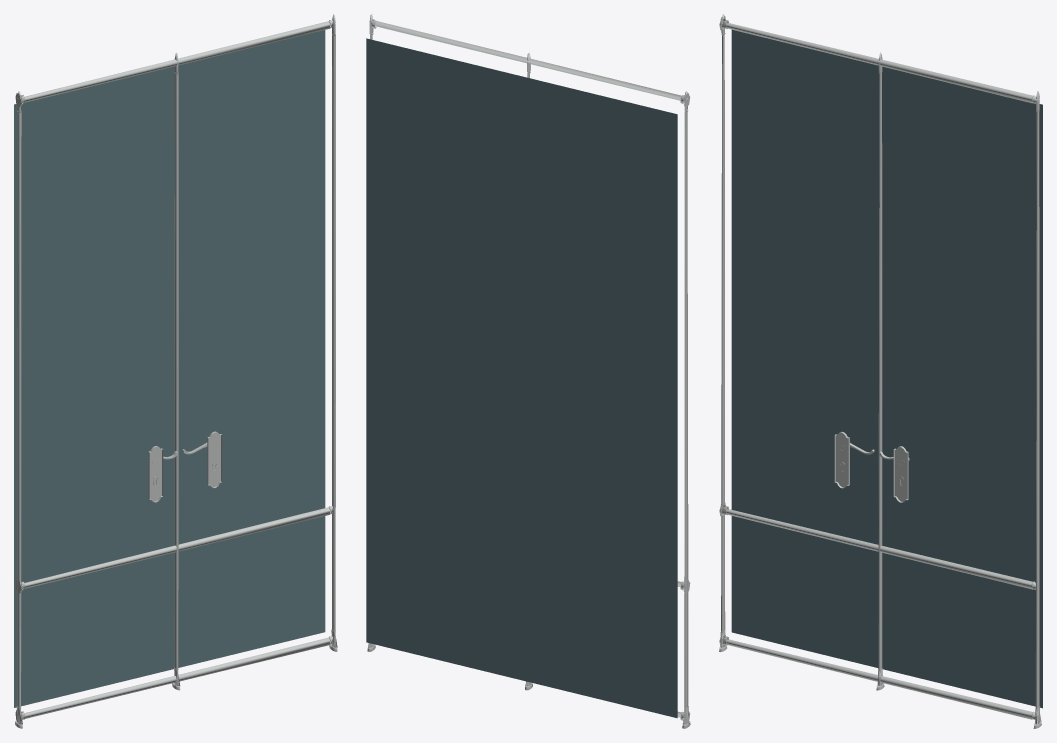
Rendered from clinic-entry.glb.
The picture shows the model from 3 angles, left to right: view 1: azimuth 30°, elevation 25°; view 2: azimuth 150°, elevation 25°; view 3: azimuth 330°, elevation 25°; orthographic projection.
Parts seen in each view (by area): view 1: Clinic casement glazing.001; view 2: Clinic casement glazing.001; view 3: Clinic casement glazing.001.
Boxes of the visible parts, bbox=[...] form: Clinic casement glazing.001: bbox=[14, 14, 337, 728]; Clinic casement glazing.001: bbox=[366, 14, 690, 728]; Clinic casement glazing.001: bbox=[719, 14, 1042, 728].
Size of the model in its own units: 1.48 by 2.81 by 0.13.
